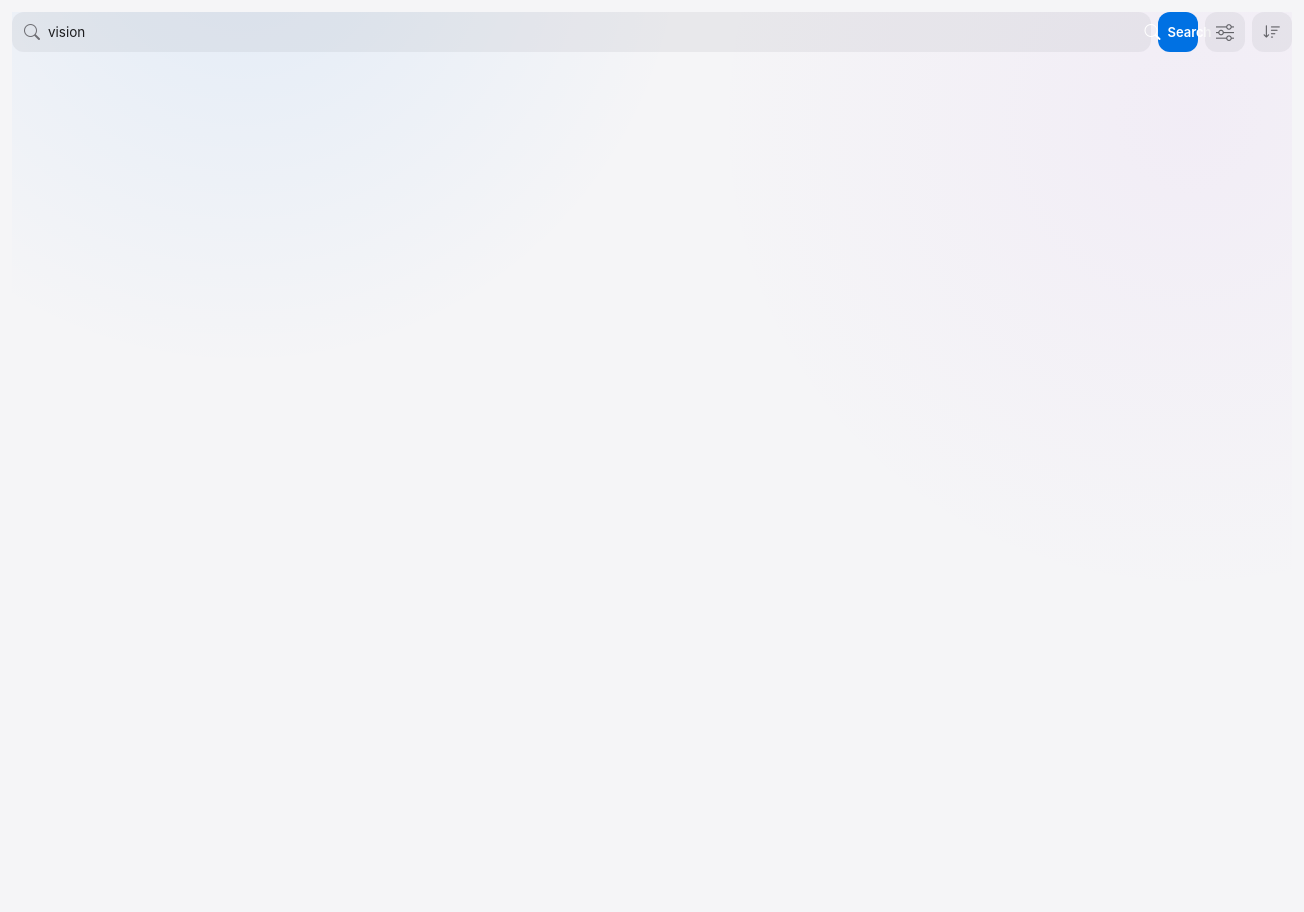
it: SearchBar › presents advanced filters in a focused popover
Step 1. Click the button with class "search-filter-trigger" → [1225, 32], box [1205,12,1245,52]
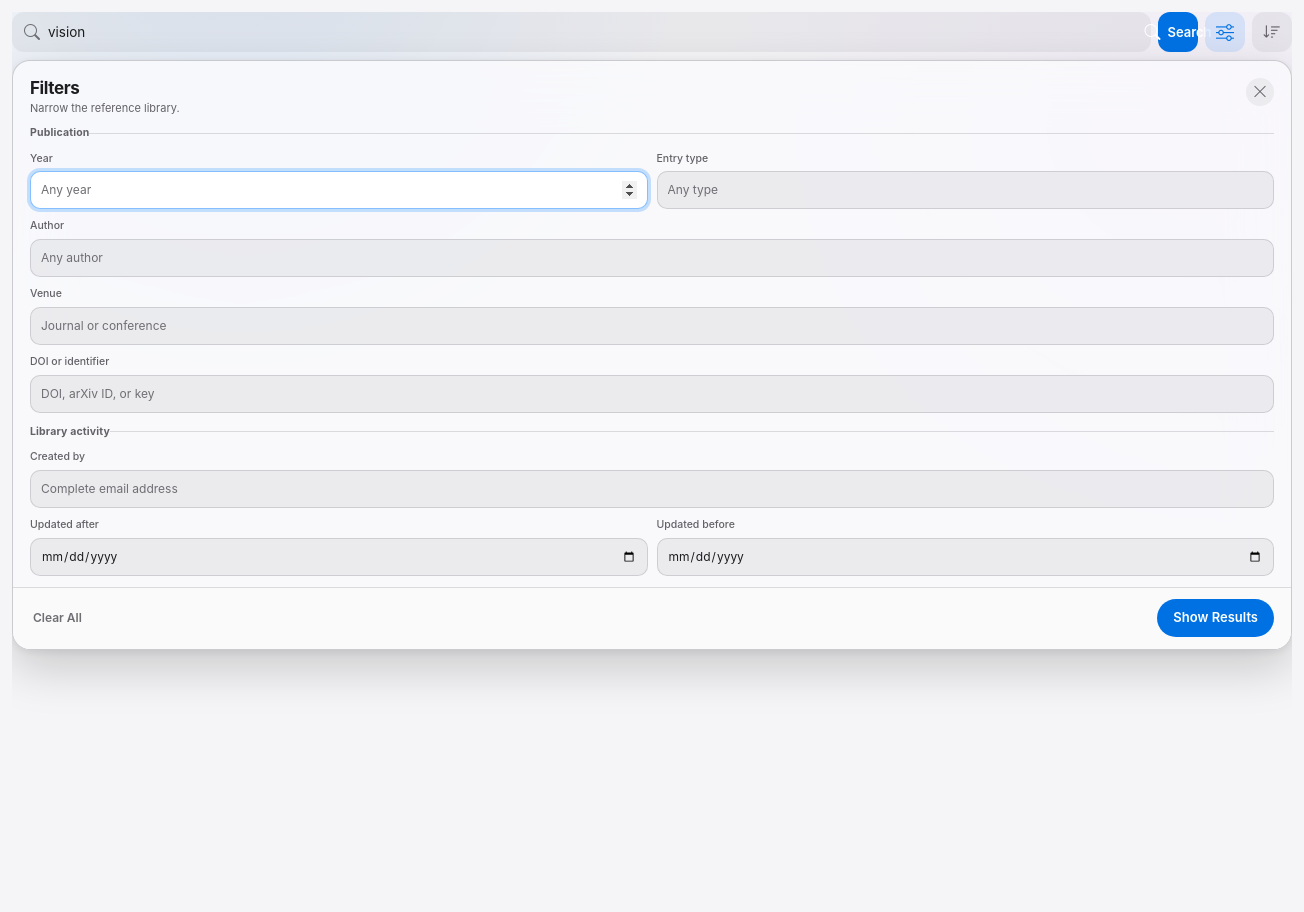
Check: the button with class "search-filter-trigger" is expanded, box [1205,12,1245,52]
Check: the element with class "search-filter-panel" shows "Publication", box [30,126,89,139]
Check: the element with class "search-filter-panel" shows "Library activity", box [30,425,110,438]
Step 2. Type "2025" into the number field with placeholder "Any year" → [339, 190], box [30,172,648,210]
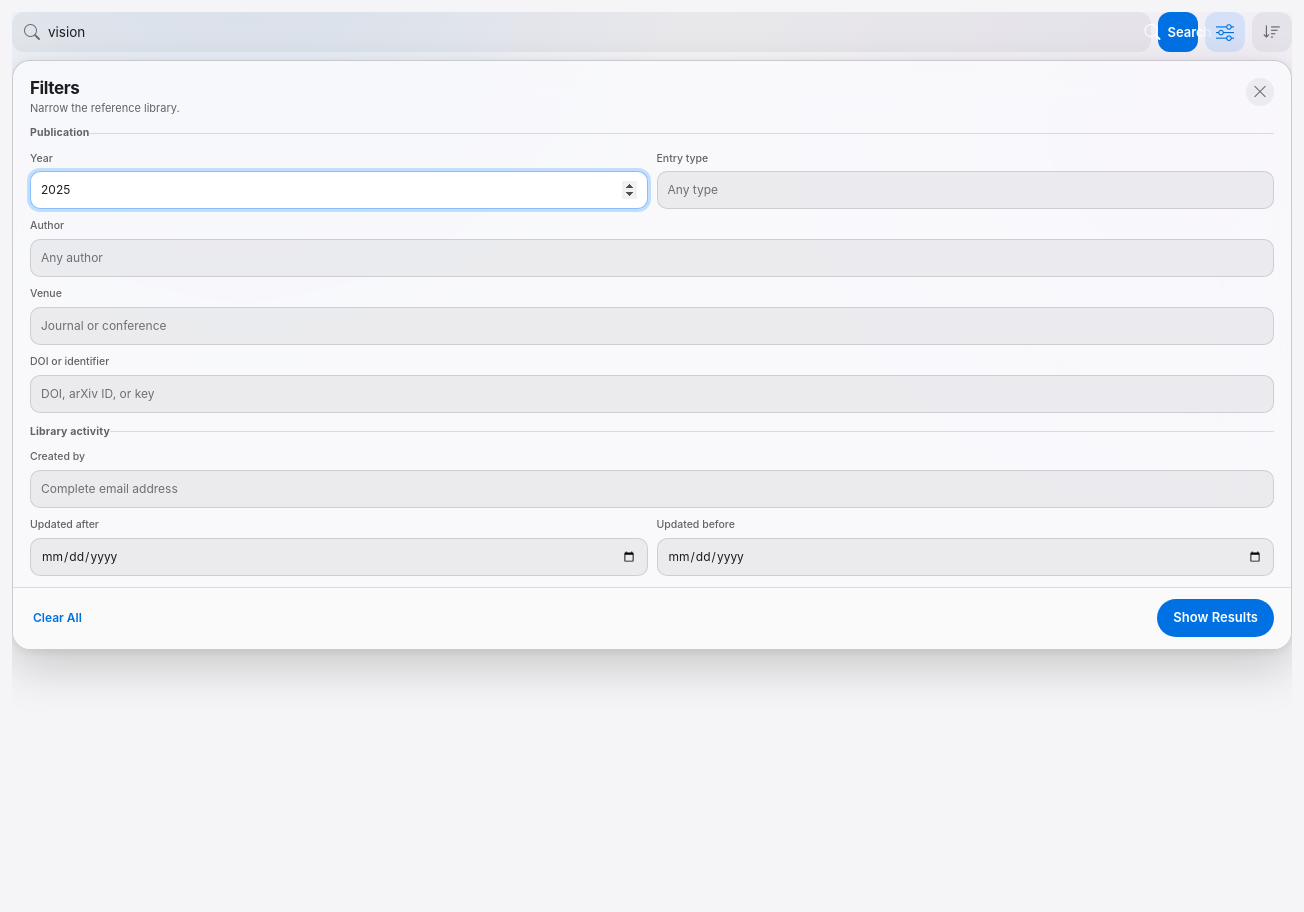
Step 3. Type "Yoneyama" into the search field with placeholder "Any author" → [652, 258], box [30,239,1274,277]
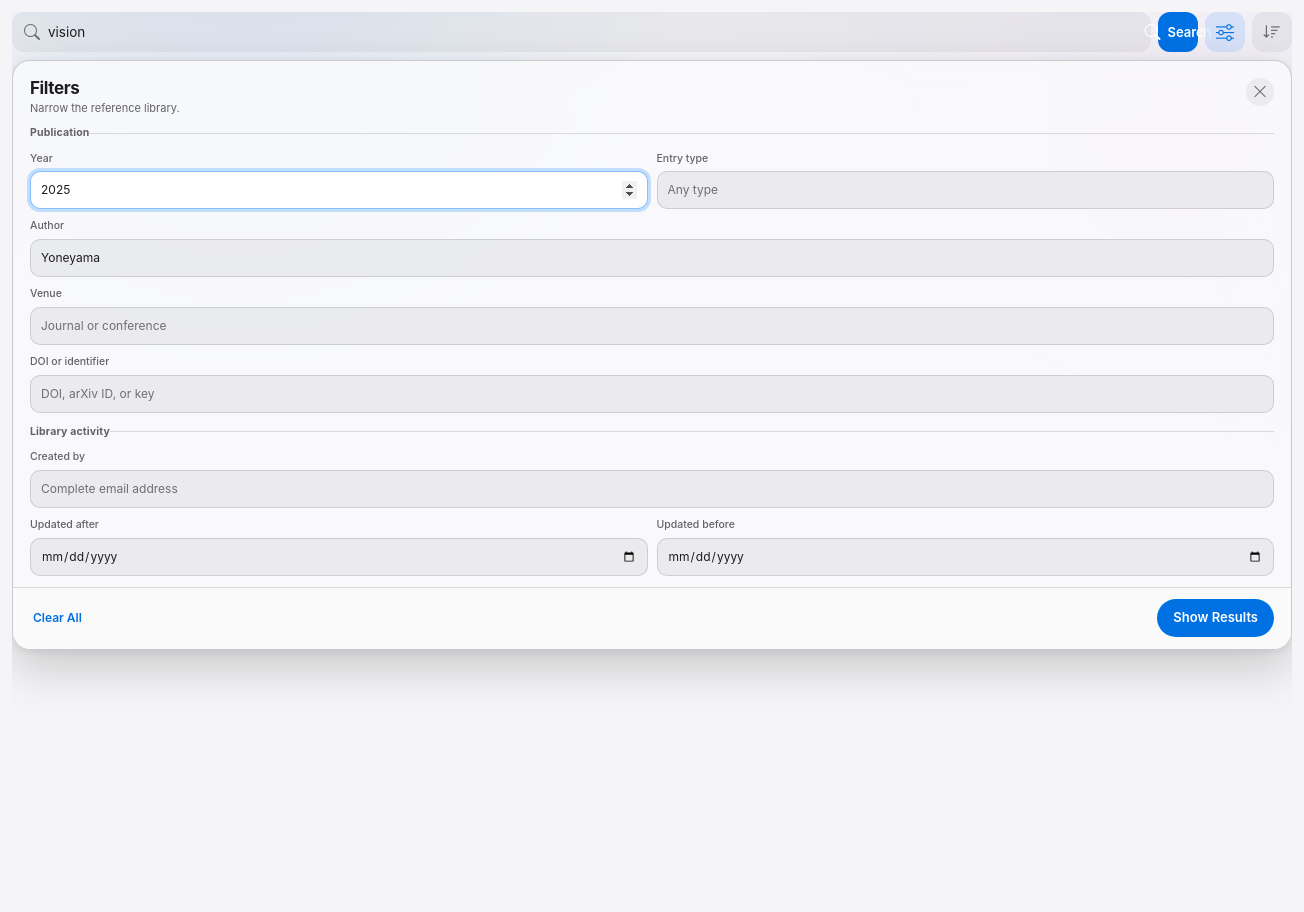
Step 4. Submit the form from the button with class "search-filter-apply", box [1157,598,1274,636]
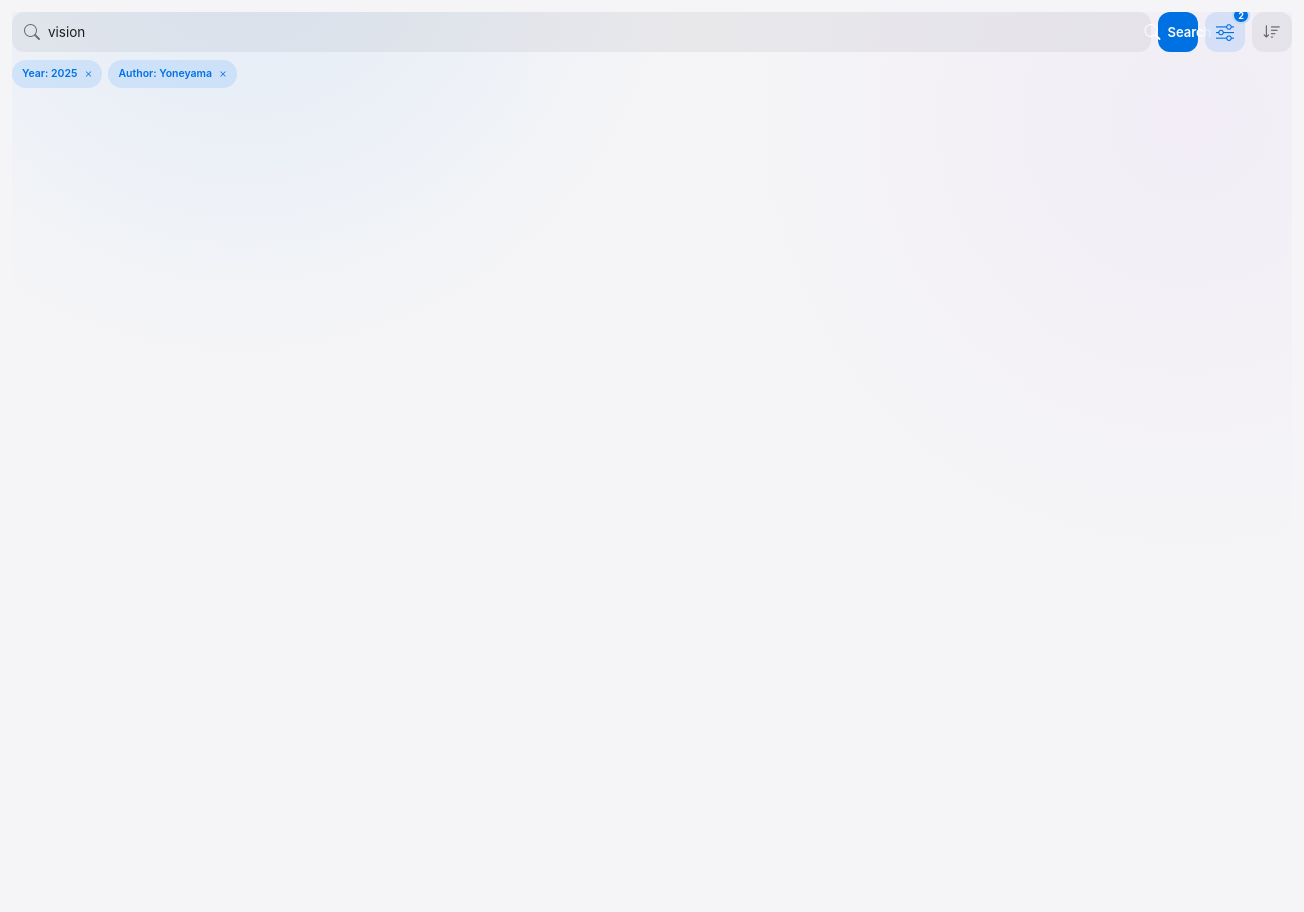
Check: the number of buttons with class "search-token" is 2, box [12,60,102,88]; [108,60,237,88]
